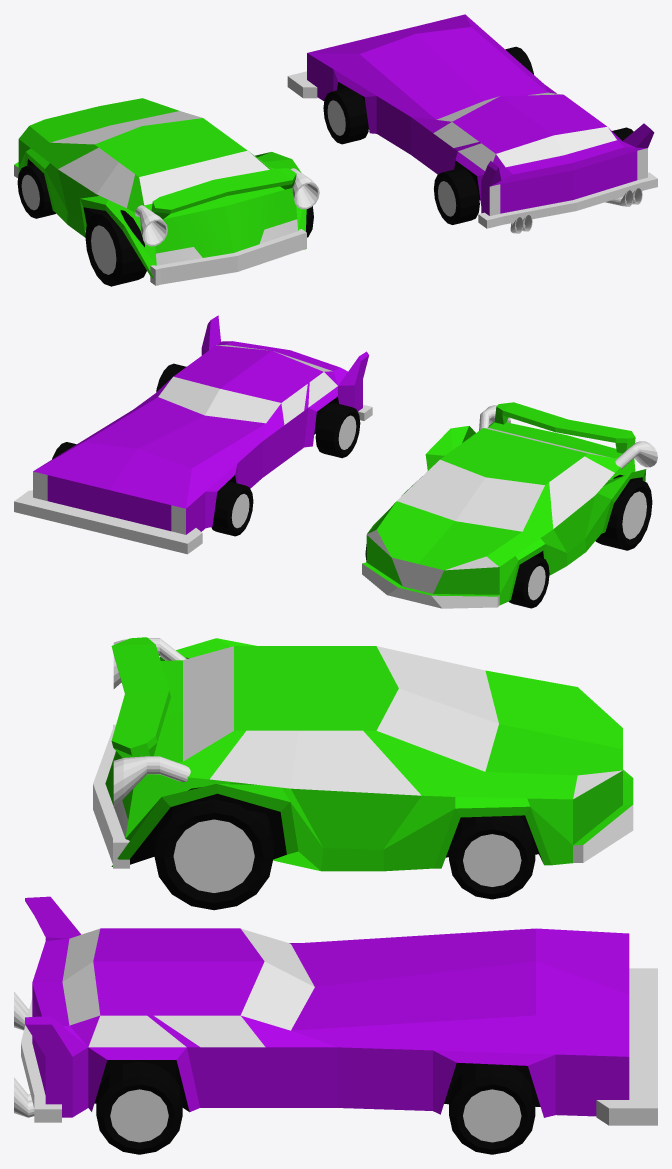
File: cars.fbx
3 renders of one model, top to bottom at view 1: azimuth 30°, elevation 25°; view 2: azimuth 150°, elevation 25°; view 3: azimuth 270°, elevation 25°, orthographic. The views are drawn at different scales.
Visible parts, largest first — view 1: Cube, Cube.001, Cylinder.005, Cylinder.001, Cylinder, Cylinder.008, Cylinder.004, Cylinder.009; view 2: Cube, Cube.001, Cylinder.005, Cylinder.001, Cylinder, Cylinder.004, Cylinder.008; view 3: Cube, Cube.001, Cylinder.007, Cylinder.002, Cylinder.003, Cylinder.006, Cylinder.008, Cylinder.009.
Boxes of the visible parts, left/top/right/bottom form: Cube: left=287, top=14, right=657, bottom=228; Cube.001: left=14, top=98, right=306, bottom=285; Cylinder.005: left=85, top=210, right=146, bottom=286; Cylinder.001: left=434, top=168, right=479, bottom=224; Cylinder: left=323, top=87, right=368, bottom=144; Cylinder.008: left=134, top=168, right=319, bottom=246; Cylinder.004: left=17, top=164, right=55, bottom=218; Cylinder.009: left=510, top=187, right=642, bottom=233; Cube: left=14, top=315, right=372, bottom=554; Cube.001: left=362, top=402, right=646, bottom=608; Cylinder.005: left=595, top=475, right=652, bottom=550; Cylinder.001: left=315, top=402, right=360, bottom=458; Cylinder: left=211, top=481, right=253, bottom=536; Cylinder.004: left=508, top=556, right=549, bottom=608; Cylinder.008: left=479, top=405, right=657, bottom=469; Cube: left=21, top=896, right=657, bottom=1125; Cube.001: left=93, top=637, right=633, bottom=871; Cylinder.007: left=154, top=787, right=273, bottom=910; Cylinder.002: left=96, top=1061, right=182, bottom=1154; Cylinder.003: left=449, top=1064, right=535, bottom=1154; Cylinder.006: left=449, top=815, right=535, bottom=899; Cylinder.008: left=113, top=638, right=190, bottom=807; Cylinder.009: left=14, top=992, right=34, bottom=1117.
Bounding box in the file's own units: 321 × 55.85 × 221.
